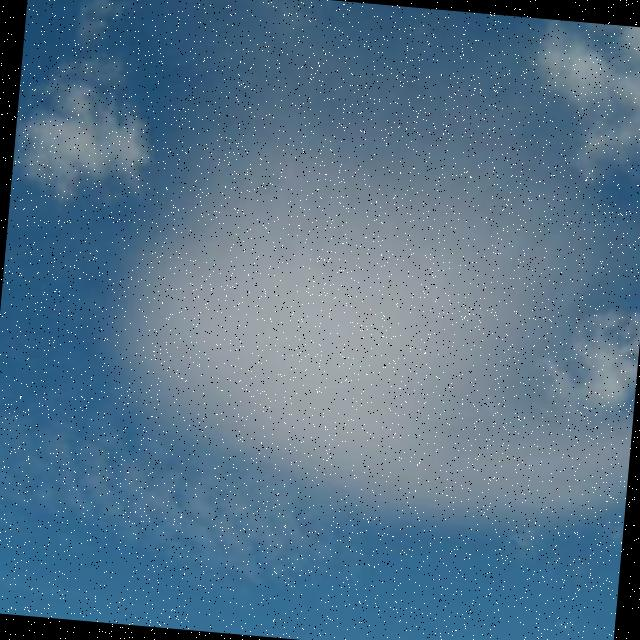Ac: (101, 40, 640, 550)
